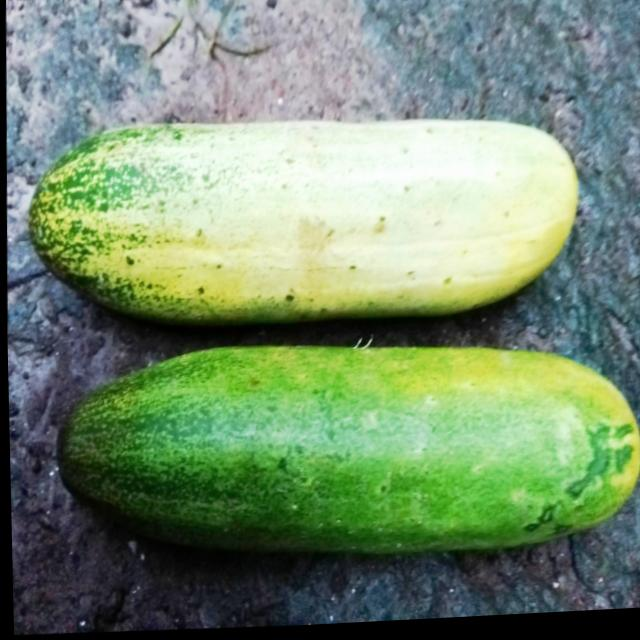Fresh-Cucumber: (55, 326, 640, 581), (23, 103, 582, 347)
